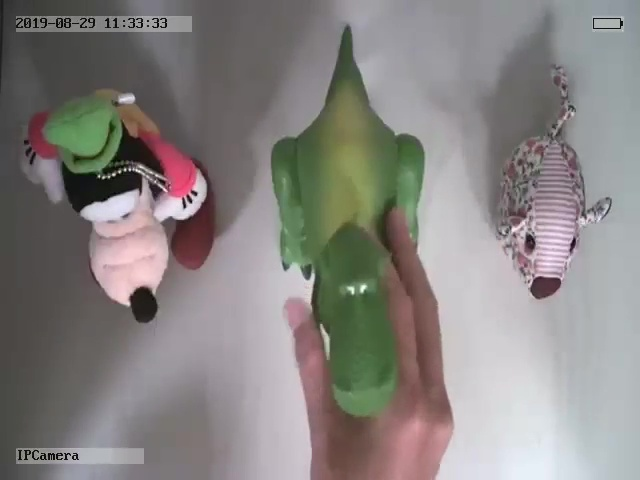goofy: (19, 85, 216, 326)
pig: (495, 62, 612, 302)
rex: (268, 22, 429, 421)
